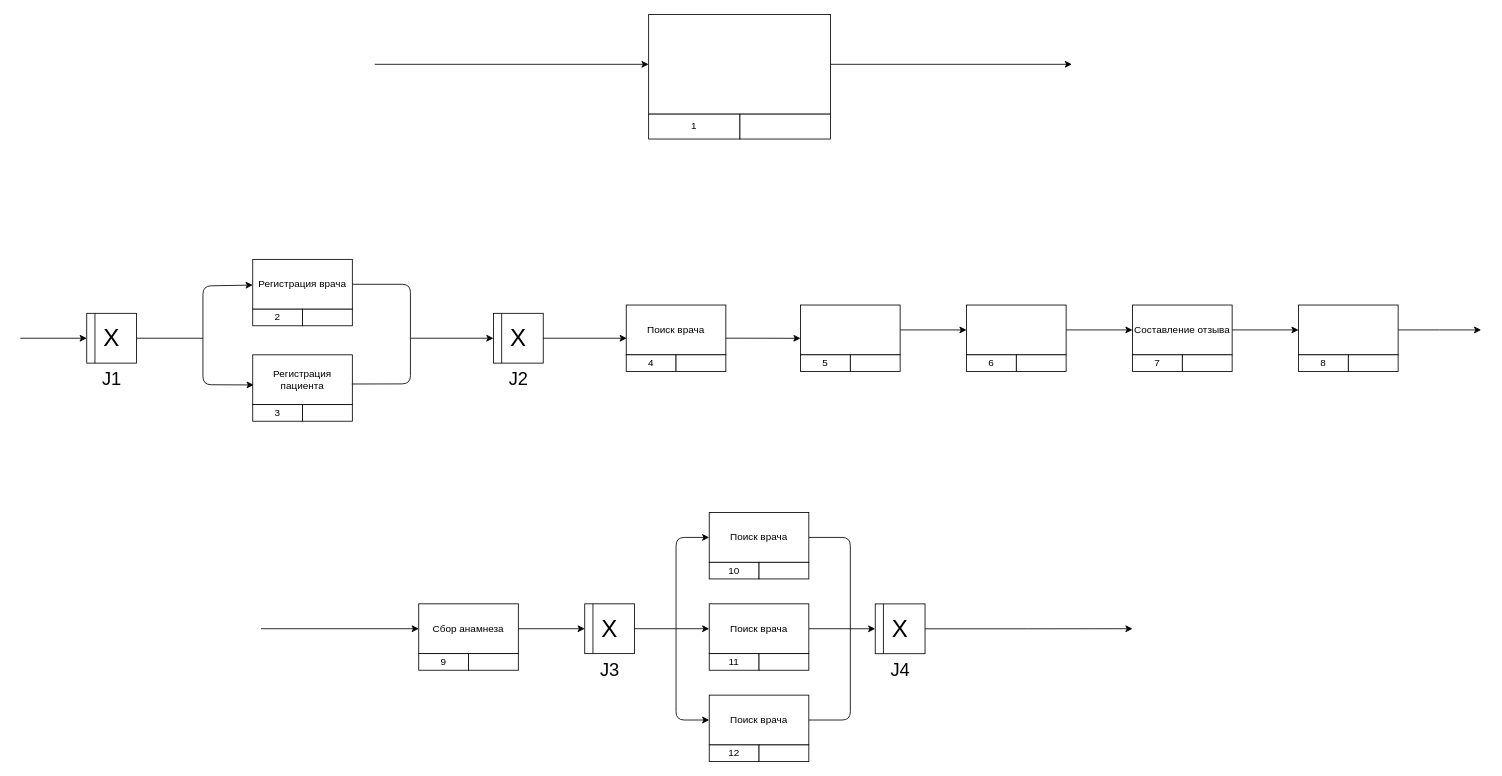
Image size: 1502x776. Some labels were removed from this diagram. The centre of each missing label's shape, as x and y in pixels:
"Консультация" belongs at (x=1016, y=329).
"Оплата" belongs at (x=850, y=329).
"Перевод врачу" belongs at (x=1348, y=329).
"Предоставление услуг консультации" belongs at (x=739, y=64).
